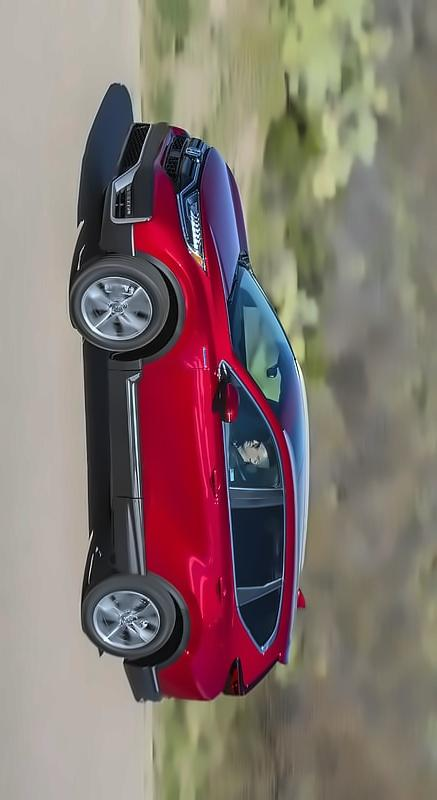Car hood: (195, 143, 255, 299)
Fender - -F-L-: (98, 264, 255, 373)
Fender - -R-L-: (96, 565, 238, 680)
Front bumper: (91, 105, 183, 266)
Headlight - -L-: (168, 178, 216, 279)
Passenger-s door - -F-L-: (128, 363, 296, 501)
Passenger-s door - -R-L-: (140, 500, 300, 611)
Rear bumper: (119, 649, 163, 708)
Rear light - -L-: (221, 649, 255, 709)
Side bumper - -L-: (101, 354, 150, 585)
Side mirror - -L-: (215, 379, 247, 430)
